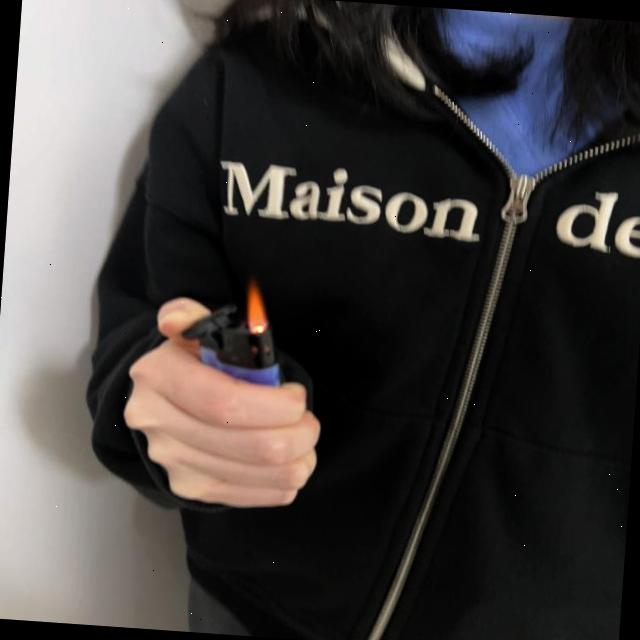fire: (242, 275, 273, 334)
